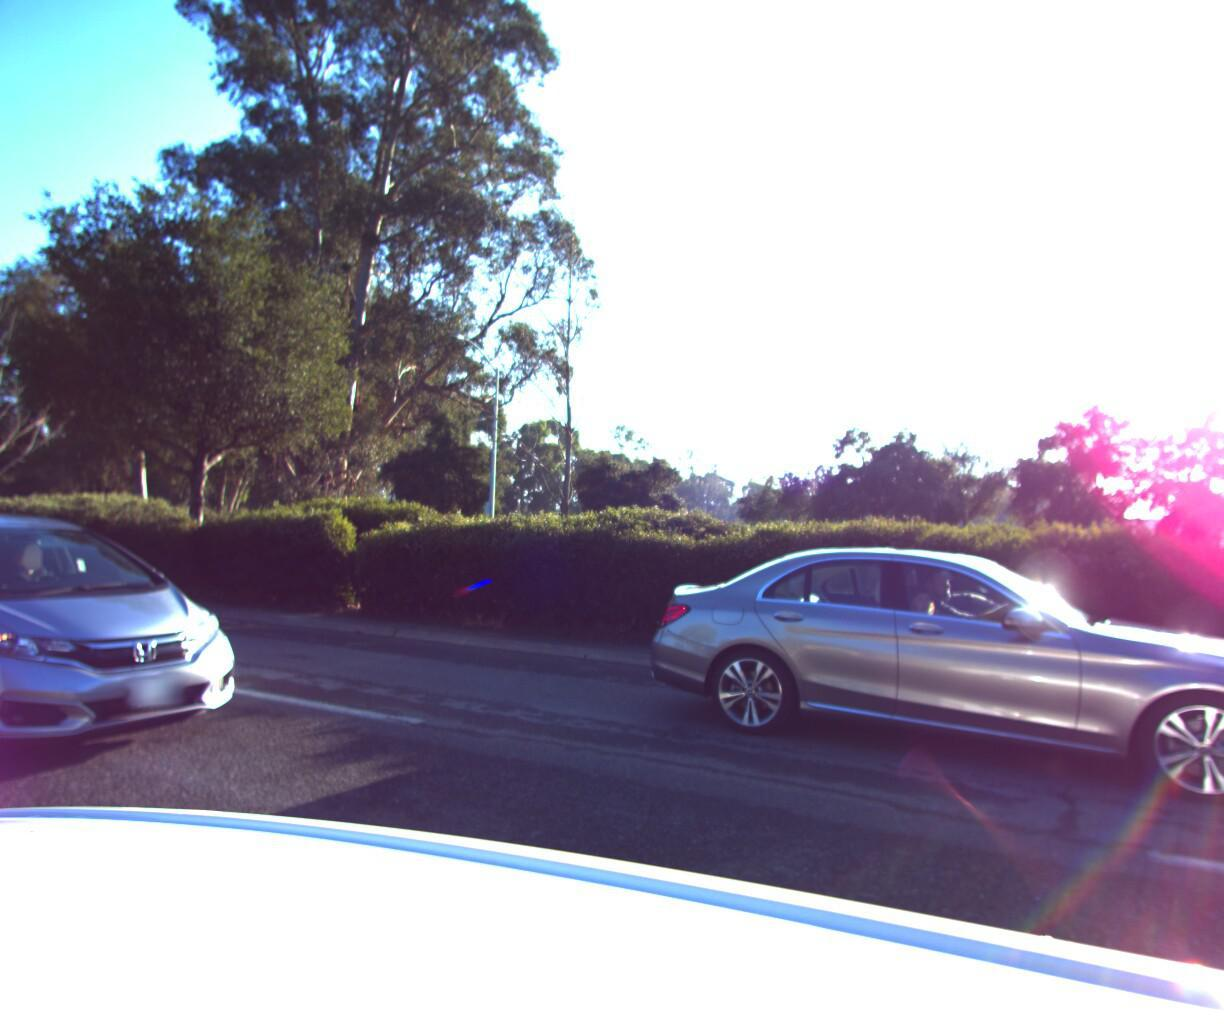car: (630, 534, 1224, 823), (0, 505, 282, 803)
